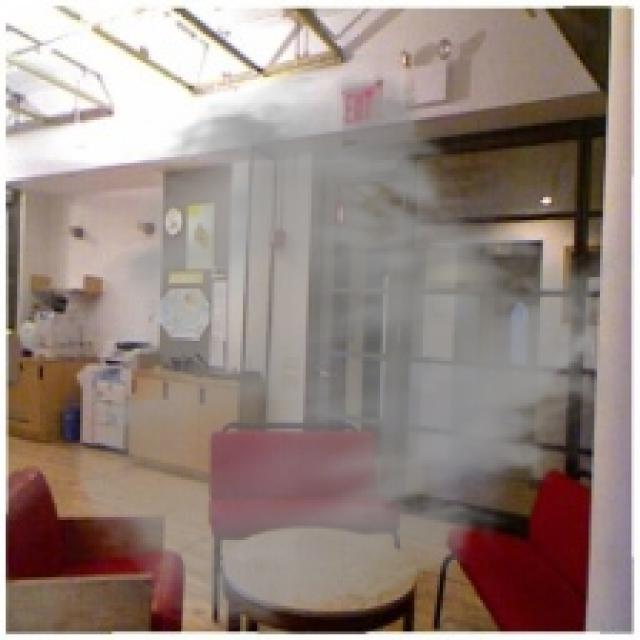smoke: (69, 69, 637, 634)
